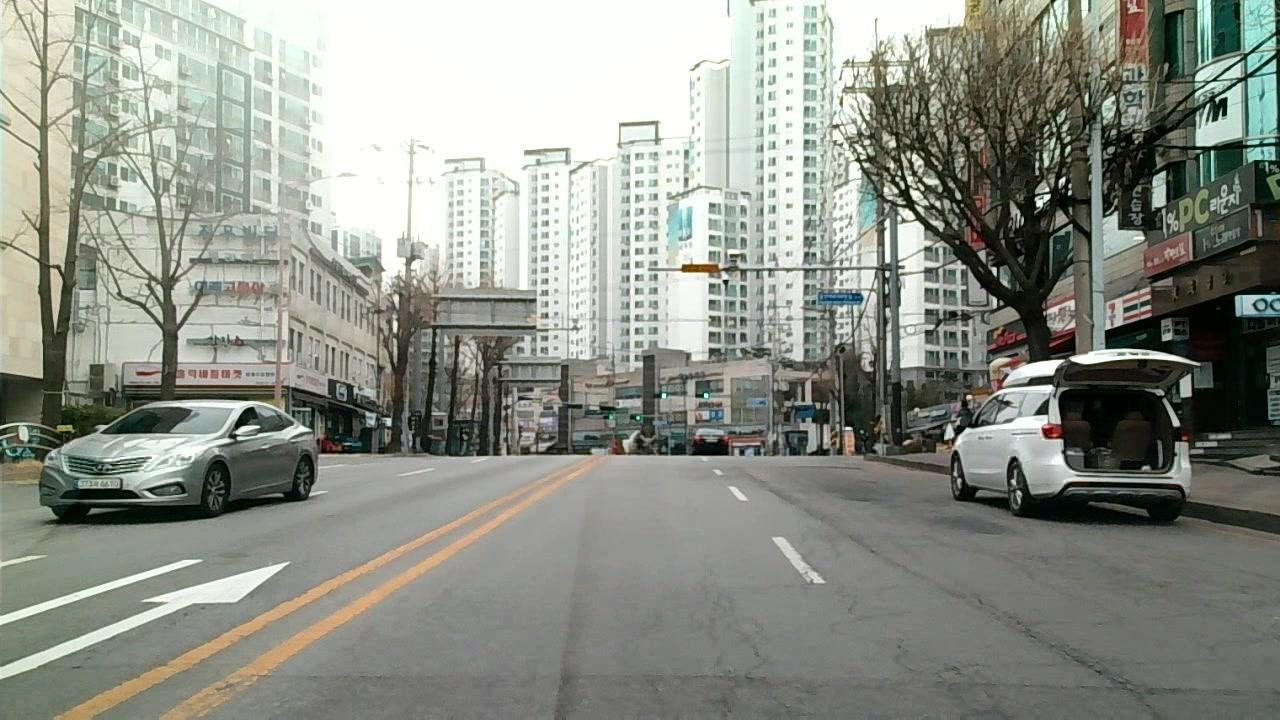banner: (976, 601, 1171, 705), (823, 521, 924, 580), (580, 666, 803, 684)
